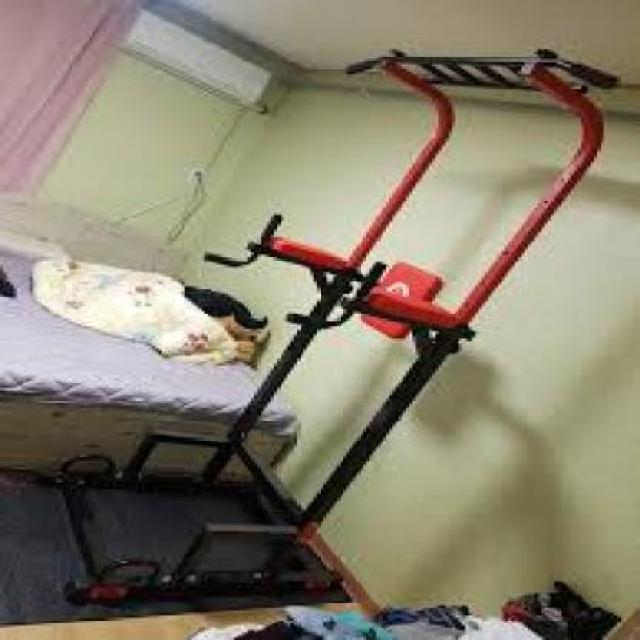chinning dipping: (28, 45, 623, 604)
